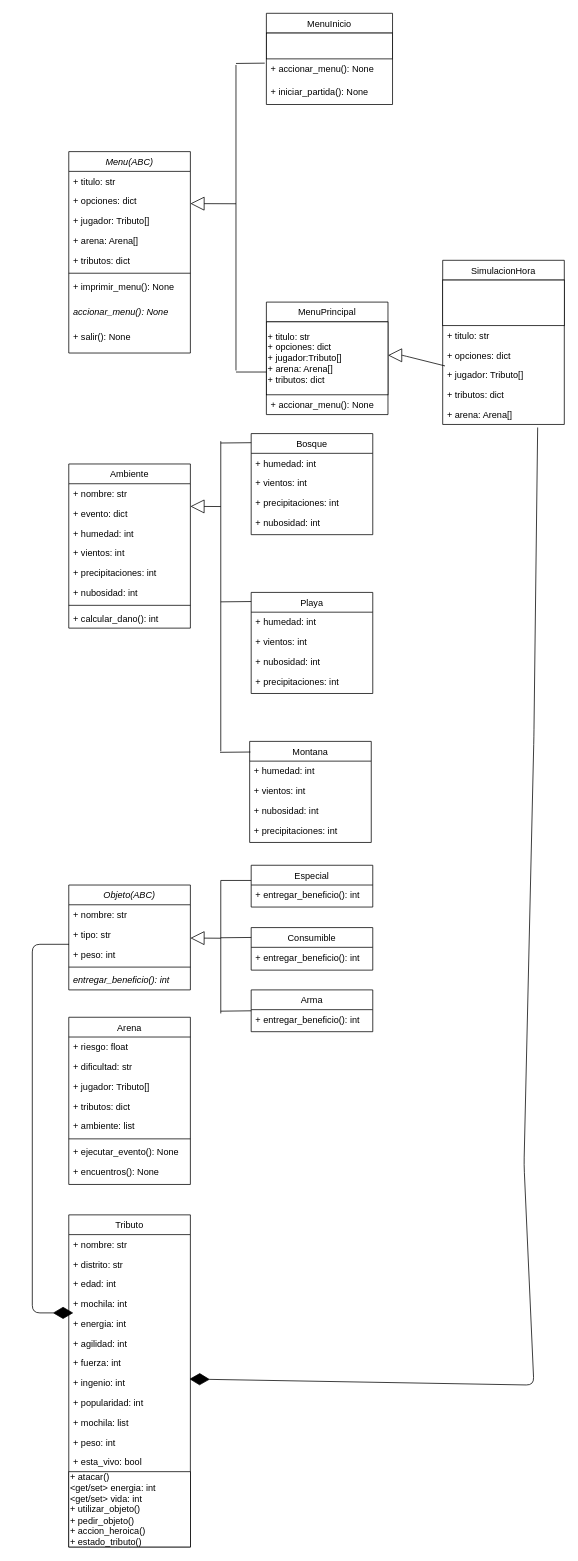
Image size: 578x1561. Some labels were removed from this diagram. The centre of each missing label's shape, as x and y in pixels:
"+ accionar_menu() + hacerse_bolita() + simular_encuentro()" goes at (x=503, y=302).
"+ titulo: str + opciones: dict" goes at (x=329, y=45).
